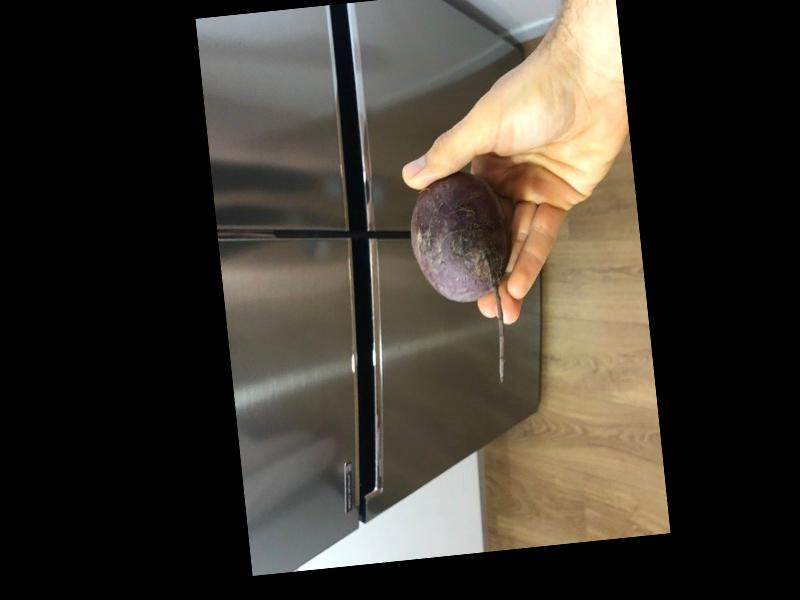Beet: (404, 168, 523, 391)
